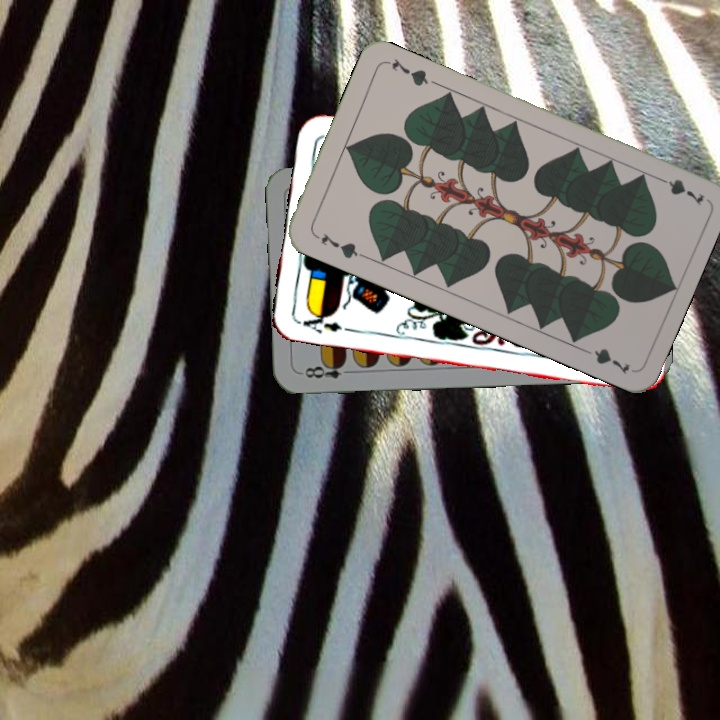E8: (297, 357, 356, 381)
EA: (293, 307, 345, 336)
G7: (650, 171, 707, 208), (310, 229, 367, 262)
